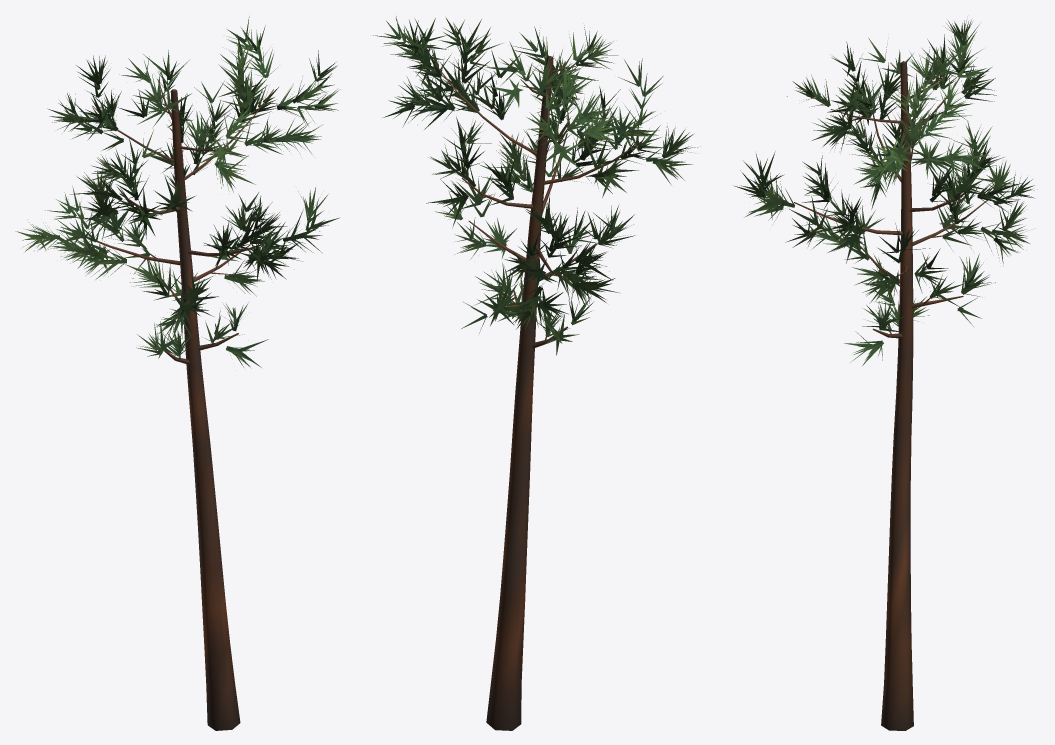
File: pine-c.lod1.glb
The picture shows the model from 3 angles, left to right: view 1: azimuth 30°, elevation 25°; view 2: azimuth 150°, elevation 25°; view 3: azimuth 270°, elevation 25°; orthographic projection. The views are drawn at different scales.
Bounding box in the file's own units: 6.45 × 14.69 × 6.1.
